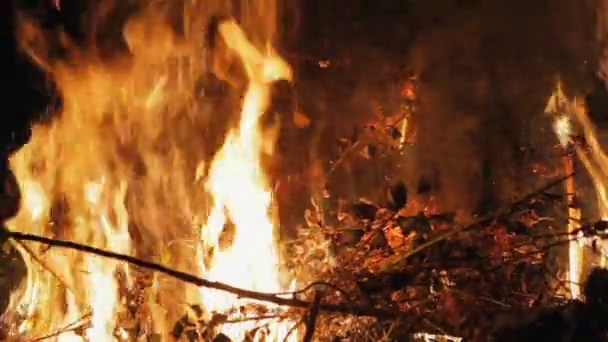fire: (3, 2, 297, 342), (546, 94, 608, 297), (415, 330, 462, 342)
